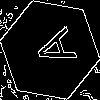A: (25, 25, 77, 74)
